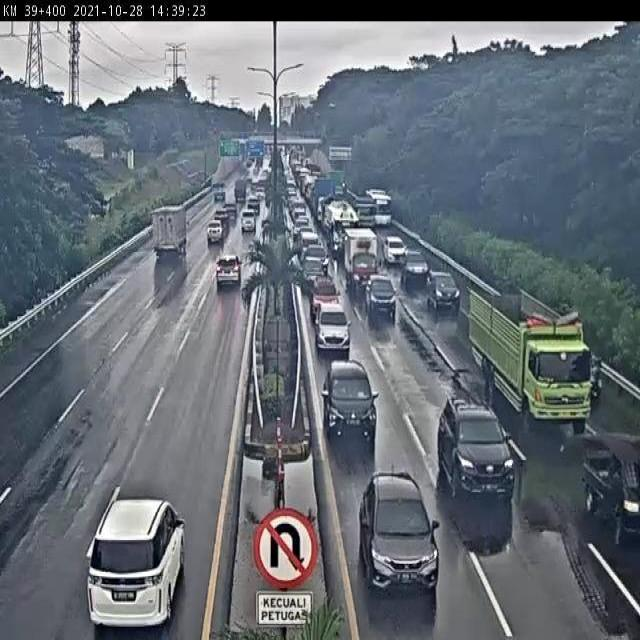car: (86, 500, 190, 629), (355, 474, 441, 594), (439, 395, 516, 496), (321, 363, 378, 440), (314, 301, 348, 348), (424, 271, 458, 308), (309, 274, 339, 314), (366, 274, 396, 314), (212, 256, 243, 291), (399, 249, 427, 280), (302, 244, 329, 271), (302, 257, 324, 288), (207, 219, 224, 244)
mid truck: (466, 285, 592, 428), (150, 205, 189, 258)
small truck: (582, 433, 640, 536), (344, 225, 378, 284)
